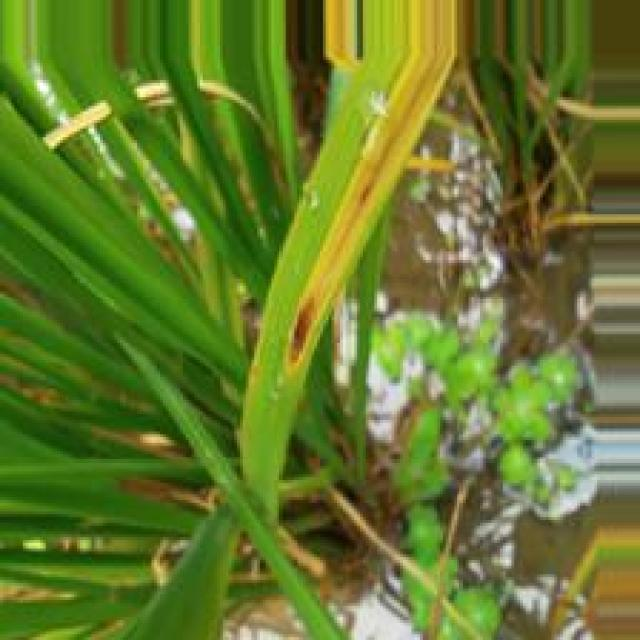Narrow_Brown_Leaf_Spot: (269, 2, 461, 377)
